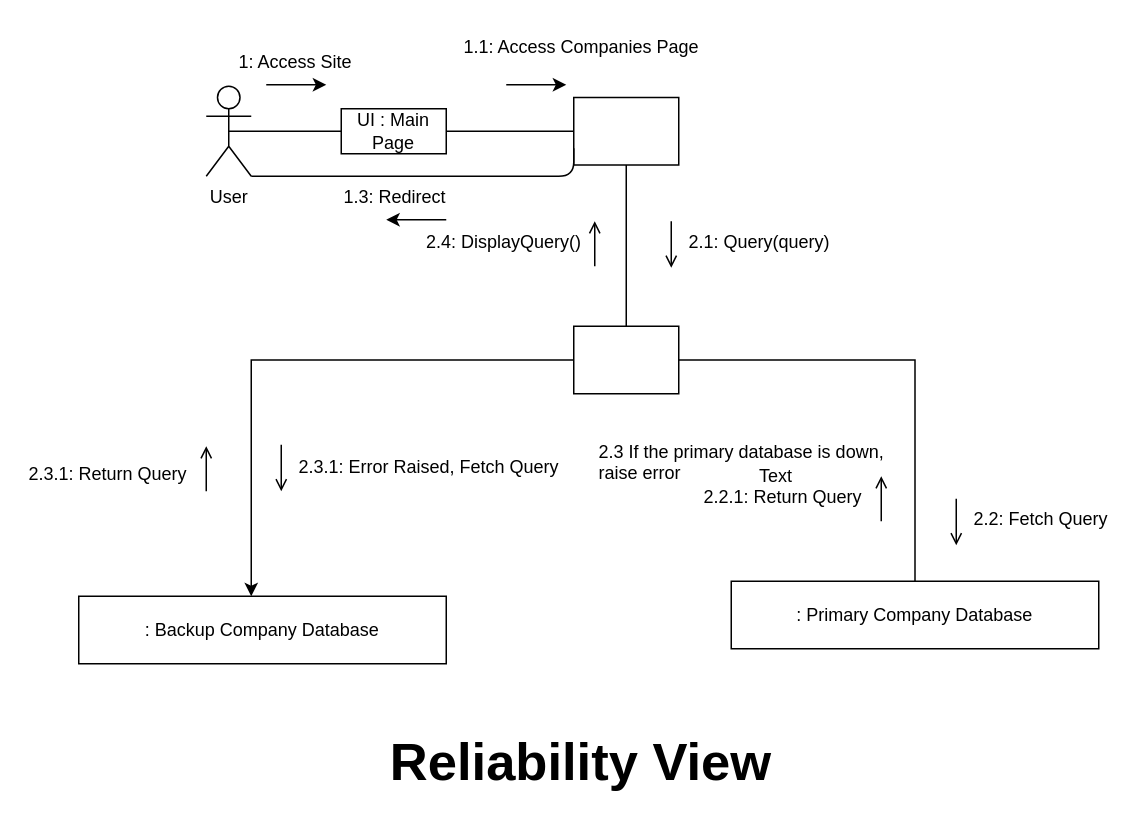
The diagram is 1146 pixels wide and 818 high, and some of its shapes have lost their labels. Each missing label, with the box of its shape:
: Company Query: (572, 325, 679, 394)
UI : Companies Page: (572, 96, 679, 165)
